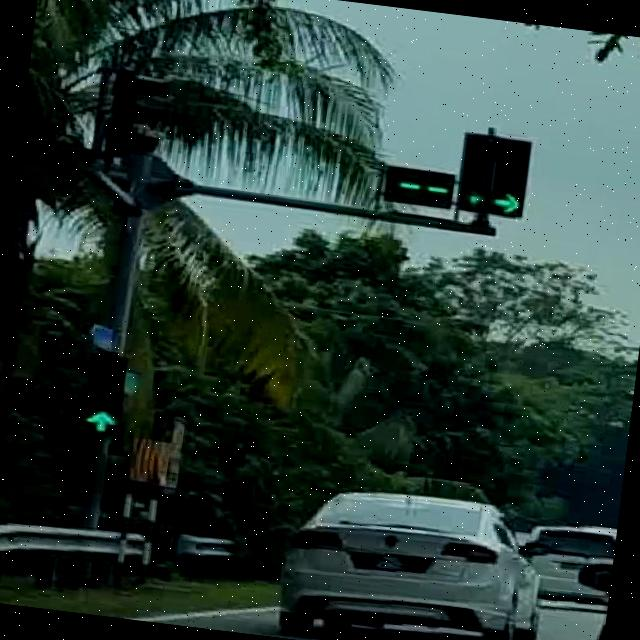green_light: (78, 352, 124, 434), (454, 131, 500, 213), (486, 135, 529, 218)
